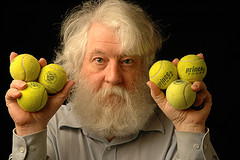tennis ball: (16, 81, 48, 112), (9, 53, 41, 83), (148, 59, 178, 90), (165, 79, 196, 109), (38, 63, 67, 93), (177, 54, 207, 82)
